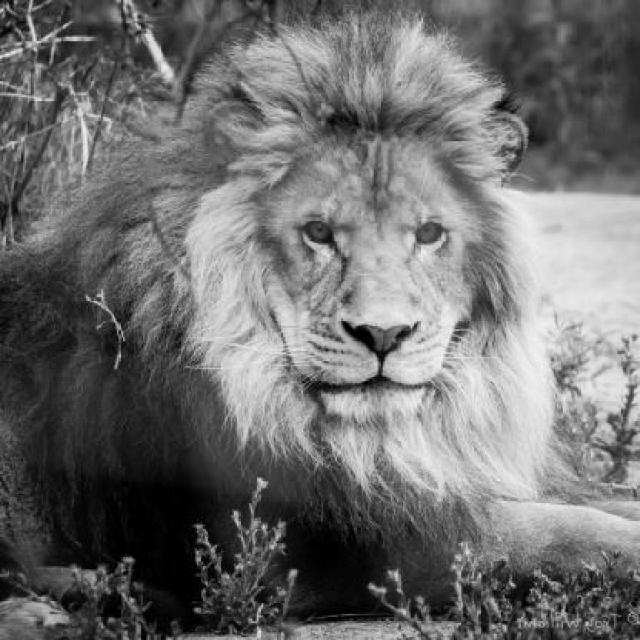Lion: (1, 16, 637, 622)
